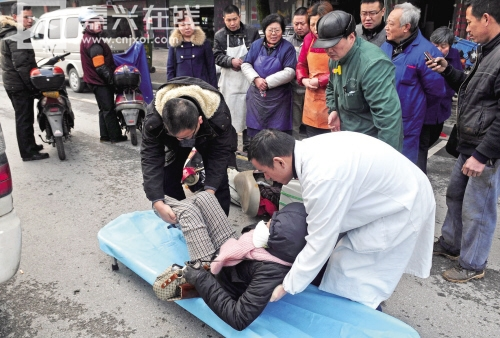10+: (1, 2, 500, 333)
down: (143, 181, 342, 313)
